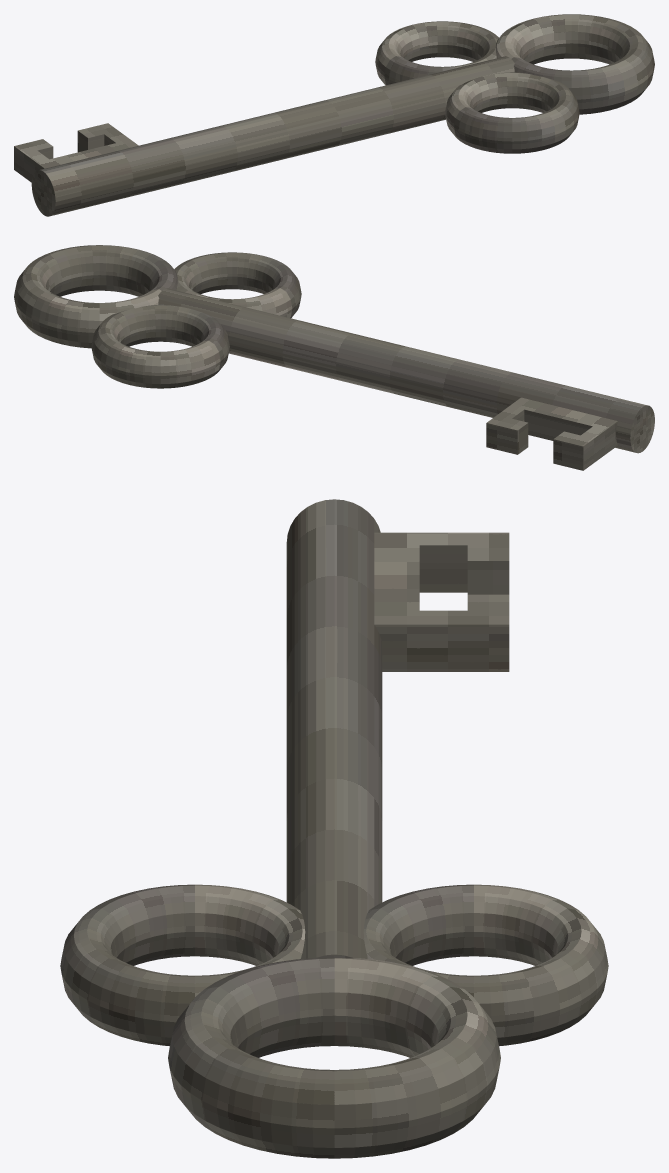
Rendered from key2.glb.
3 renders of one model, top to bottom at view 1: azimuth 30°, elevation 25°; view 2: azimuth 150°, elevation 25°; view 3: azimuth 270°, elevation 25°, orthographic. The views are drawn at different scales.
Parts seen in each view (by area): view 1: Cube; view 2: Cube; view 3: Cube.
Boxes of the visible parts, box(x1,y1,x2,y2) form: Cube: box(14, 14, 654, 216); Cube: box(14, 245, 654, 470); Cube: box(60, 499, 608, 1158).
Bounding box in the file's own units: 1.16 × 0.08 × 0.459.
1 material, 1 textured.
